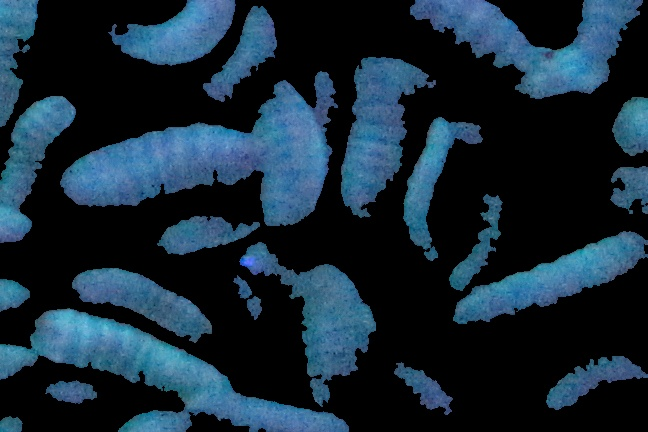larvae: (29, 310, 219, 405), (454, 234, 645, 325), (61, 121, 255, 207), (339, 56, 431, 216), (291, 261, 383, 413), (67, 262, 215, 340), (261, 81, 329, 231), (408, 1, 538, 72), (105, 1, 238, 64), (406, 117, 461, 261), (1, 98, 73, 207), (202, 4, 276, 103), (448, 180, 507, 292), (542, 353, 648, 407), (224, 388, 347, 432), (517, 50, 614, 101), (1, 1, 39, 128), (574, 2, 648, 65), (156, 214, 266, 253), (392, 359, 457, 418)
